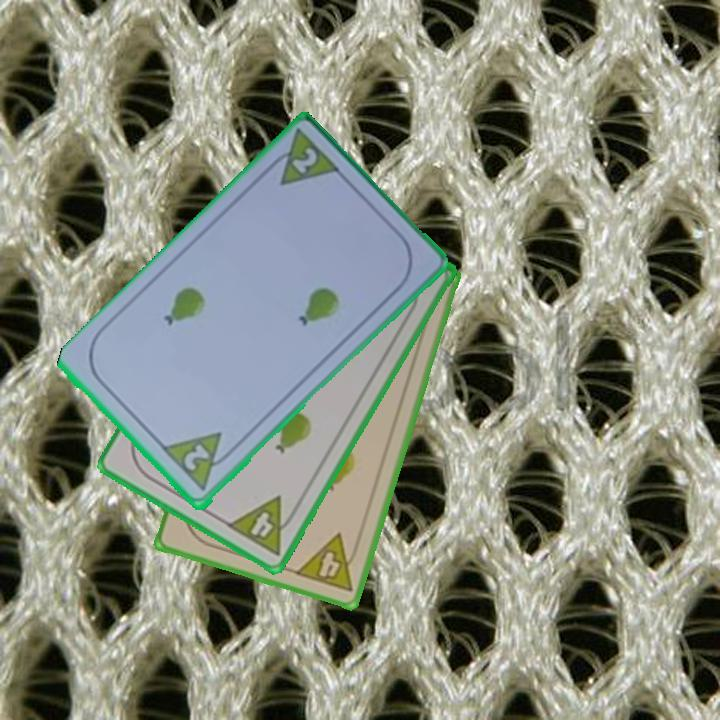2p: (180, 441, 213, 475), (288, 144, 321, 178)
4p: (223, 492, 302, 559), (291, 530, 364, 596)
